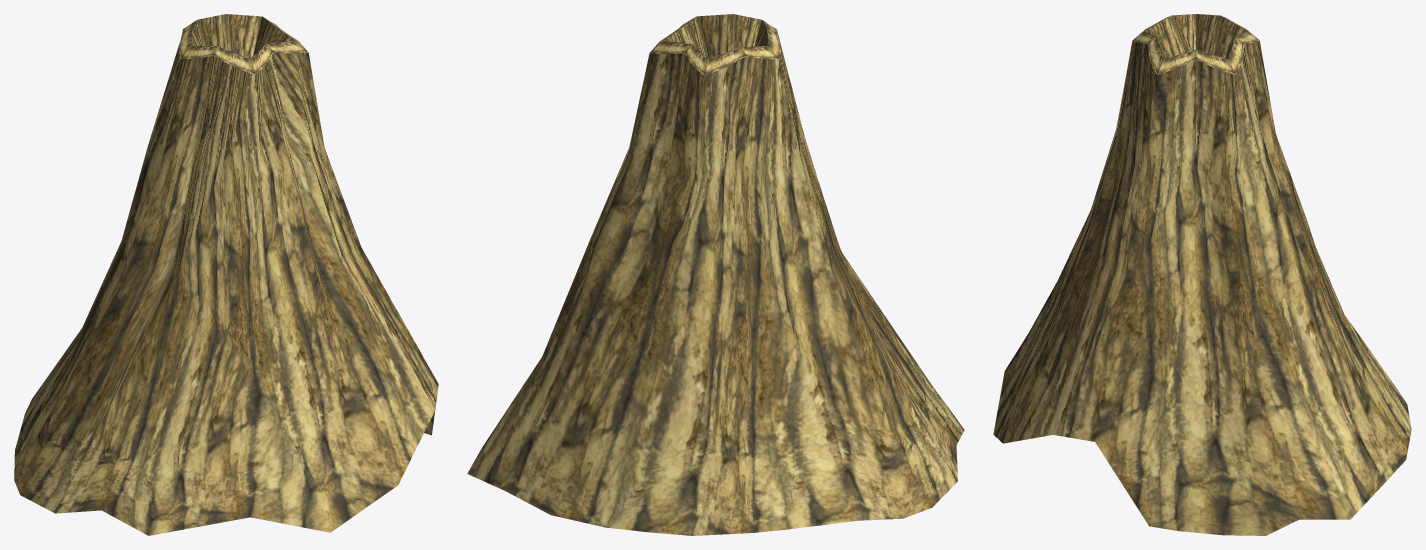
The model's file is FP_jog_island.md.041.obj.
3 views of the same model, side by side, from view 1: azimuth 30°, elevation 25°; view 2: azimuth 150°, elevation 25°; view 3: azimuth 270°, elevation 25° (orthographic). The views are drawn at different scales.
Parts seen in each view (by area): view 1: FP_jog_island.mo.041; view 2: FP_jog_island.mo.041; view 3: FP_jog_island.mo.041.
Part boxes in pixels (x1,y1,x2,y2): FP_jog_island.mo.041: (14,14,438,535); FP_jog_island.mo.041: (467,14,964,535); FP_jog_island.mo.041: (993,14,1411,535).
Size of the model in its own units: 20.84 by 21.82 by 19.56.
1 material, 1 textured.
